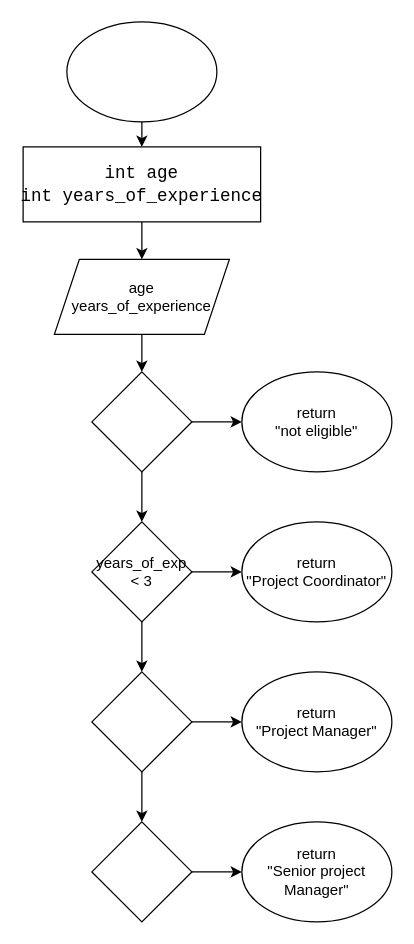
Image size: 414x944. Some labels were removed from this diagram. Each missing label, with the box of its shape:
age < 18: (91, 371, 192, 472)
START: (66, 21, 217, 122)
years >= 3 && < 5: (91, 671, 192, 772)
years >= 5: (91, 821, 192, 922)
